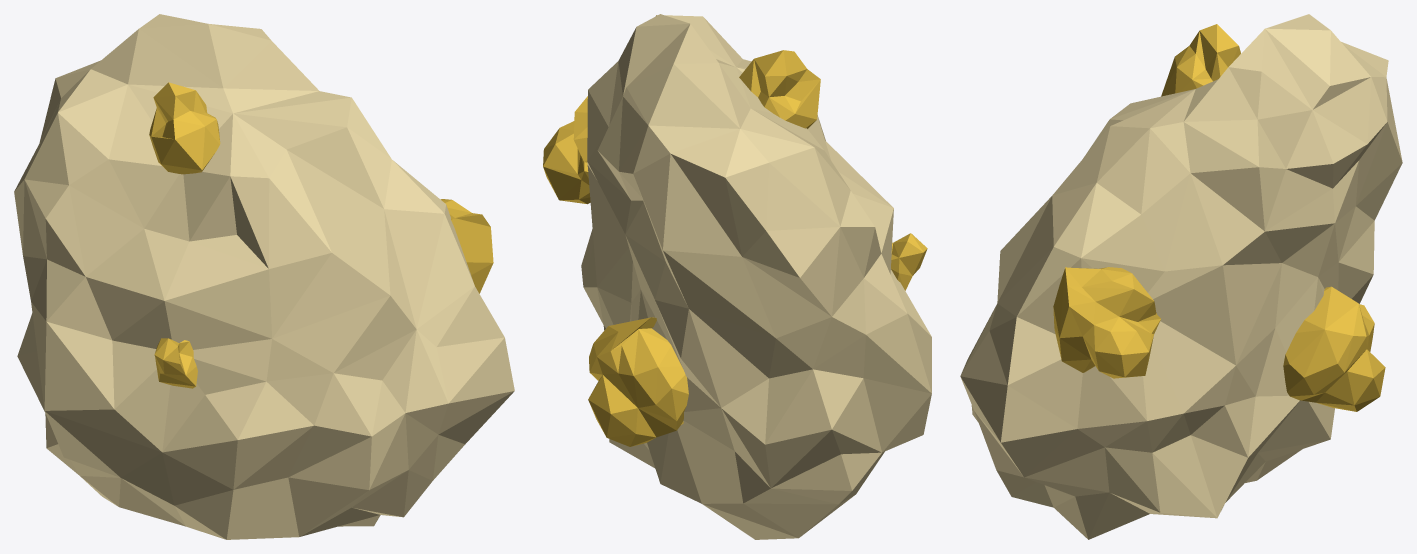
The model's file is MetalOre (22).fbx.
The picture shows the model from 3 angles, left to right: view 1: azimuth 30°, elevation 25°; view 2: azimuth 150°, elevation 25°; view 3: azimuth 270°, elevation 25°; orthographic projection. The views are drawn at different scales.
Parts seen in each view (by area): view 1: Asteroid377; view 2: Asteroid377; view 3: Asteroid377.
Boxes of the visible parts, x1,y1,x2,y2 form: Asteroid377: [14, 14, 514, 539]; Asteroid377: [543, 14, 931, 539]; Asteroid377: [960, 14, 1402, 539].
Size of the model in its own units: 525 by 592 by 490.
